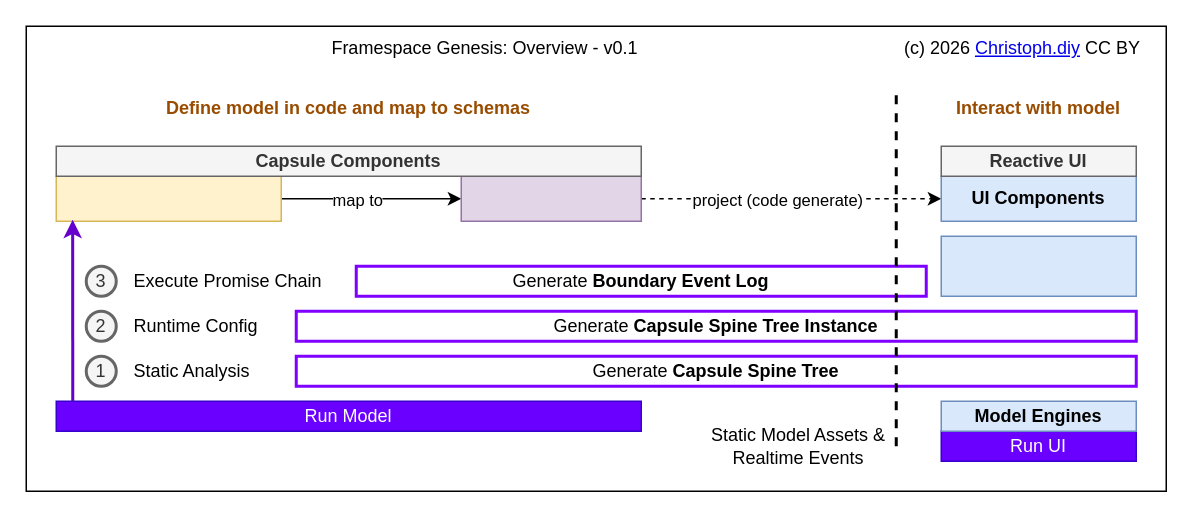
Some shapes in this 1193 by 518 pixel diagram are drawn without their labels. The box of each missing label's shape, as (x1, y1, x2, y2) in pixels:
Codepath Entities: (55, 175, 281, 221)
Model Entities: (460, 175, 641, 221)
Visualization & Interaction Model: (940, 235, 1136, 296)
